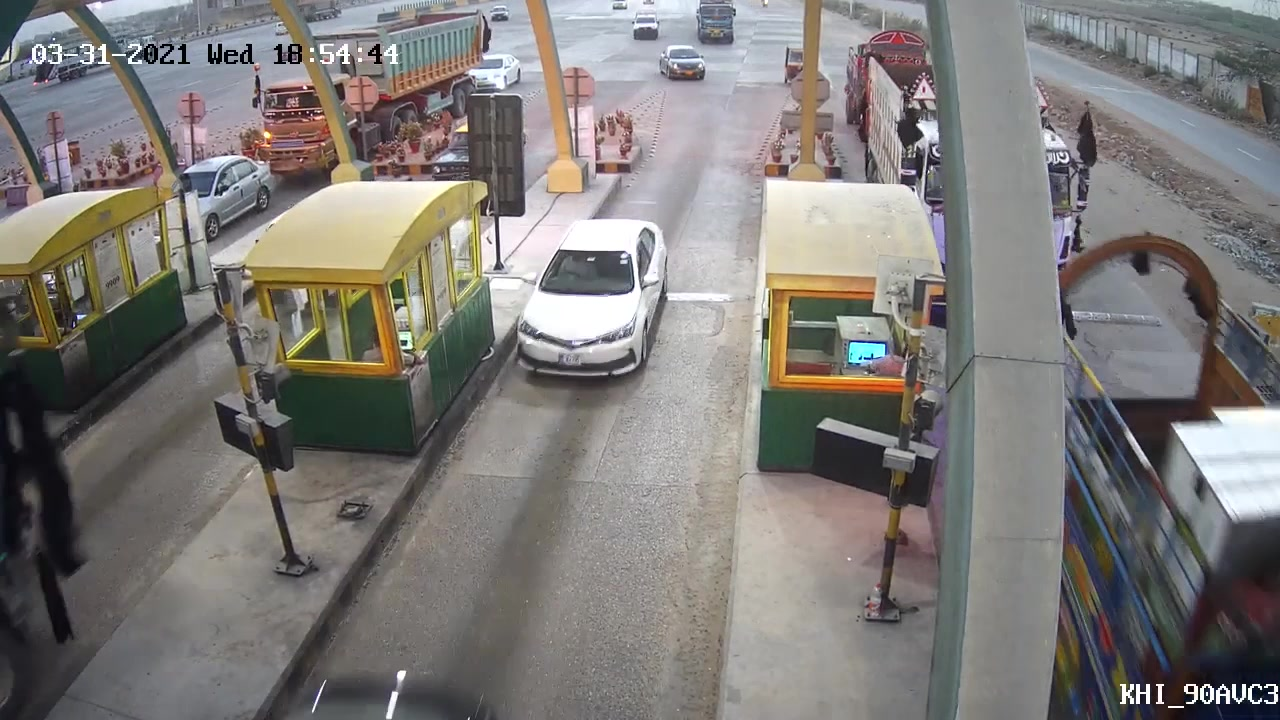F1: (500, 209, 672, 384)
